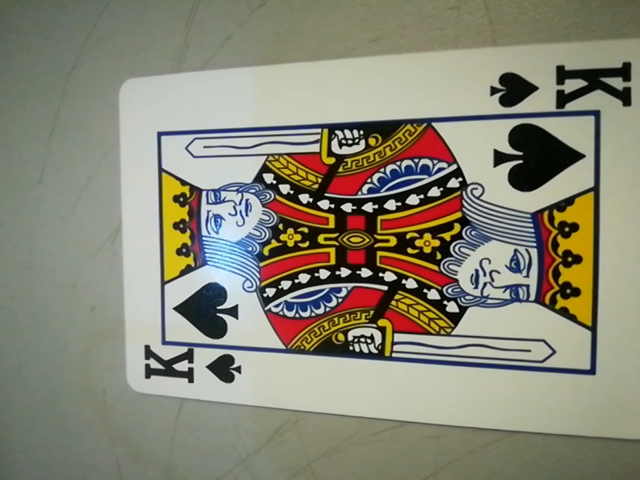ht k: (128, 335, 245, 397)
